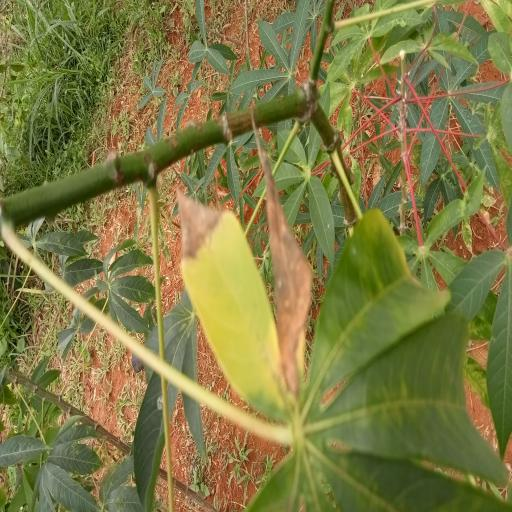Cassava_Root_Rot: (172, 115, 510, 512)
